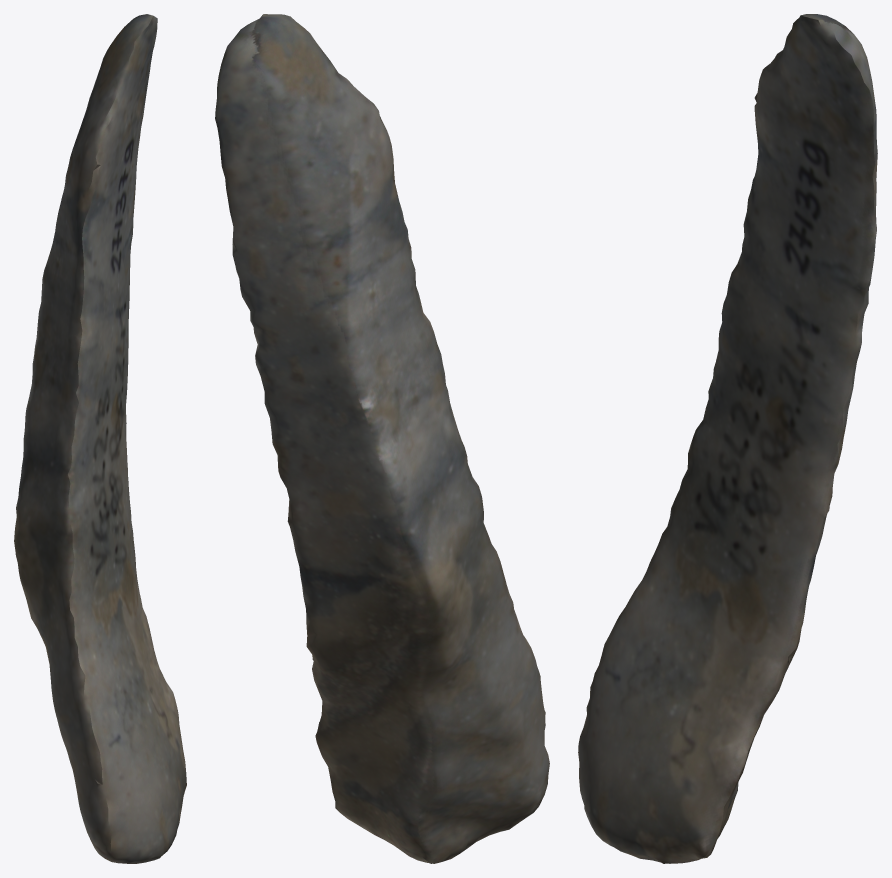
The model's file is lama271379.glb.
3 views of the same model, side by side, from view 1: azimuth 30°, elevation 25°; view 2: azimuth 150°, elevation 25°; view 3: azimuth 270°, elevation 25° (orthographic). The views are drawn at different scales.
Parts seen in each view (by area): view 1: Object_2; view 2: Object_2; view 3: Object_2.
Part boxes in pixels (bbox=[...]): Object_2: bbox=[14, 14, 186, 863]; Object_2: bbox=[215, 14, 549, 863]; Object_2: bbox=[578, 14, 877, 863].
Size of the model in its own units: 13.33 by 55.42 by 17.04.
Materials: 1 (1 with a texture image).
